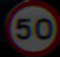Speed limit: (5, 2, 54, 50)
